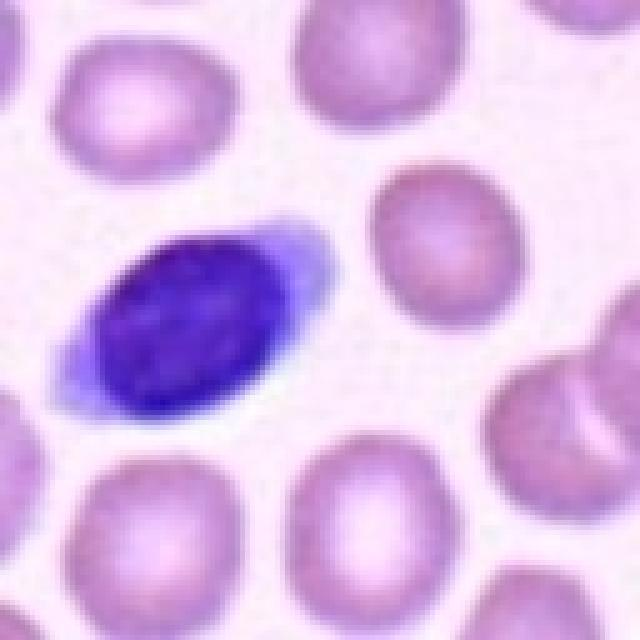lympho: (47, 208, 343, 436)
